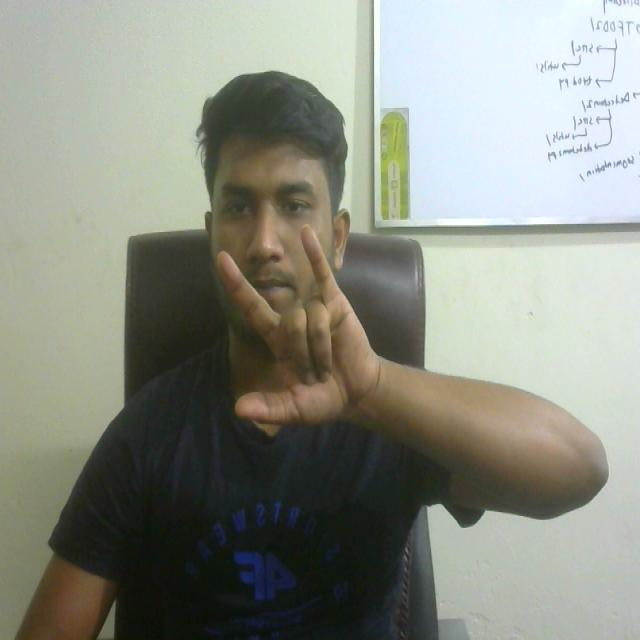B: (212, 210, 372, 462)
